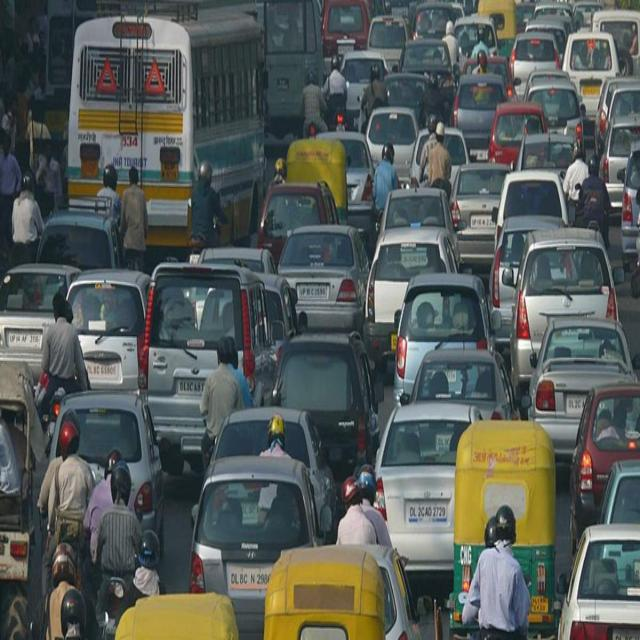plate: (228, 562, 274, 594), (404, 495, 449, 526), (84, 354, 123, 378), (5, 328, 42, 350), (176, 374, 206, 401), (468, 211, 498, 231), (300, 282, 328, 300)
